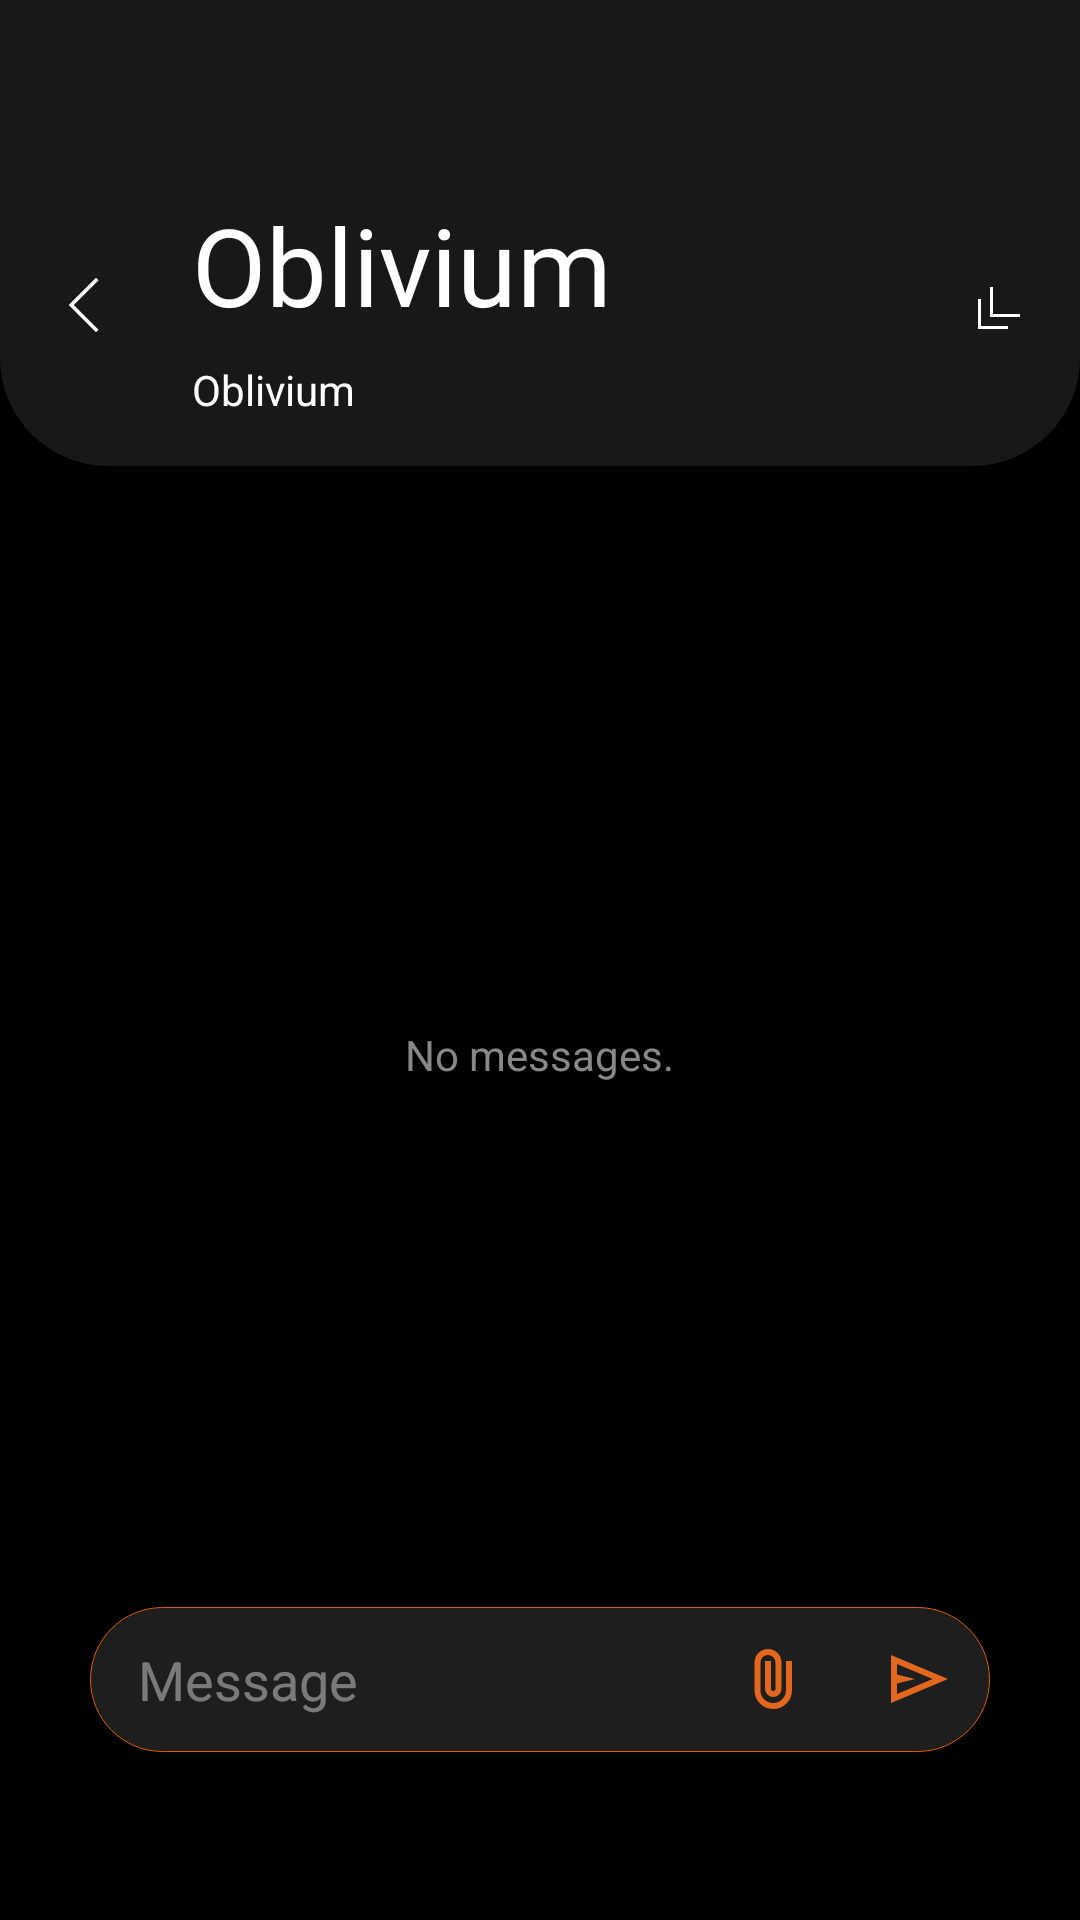

Where icons sit on this 1080px×1920px app screen, as BBox(x1, y1, x2, y2):
arrow back: BBox(69, 278, 99, 332)
